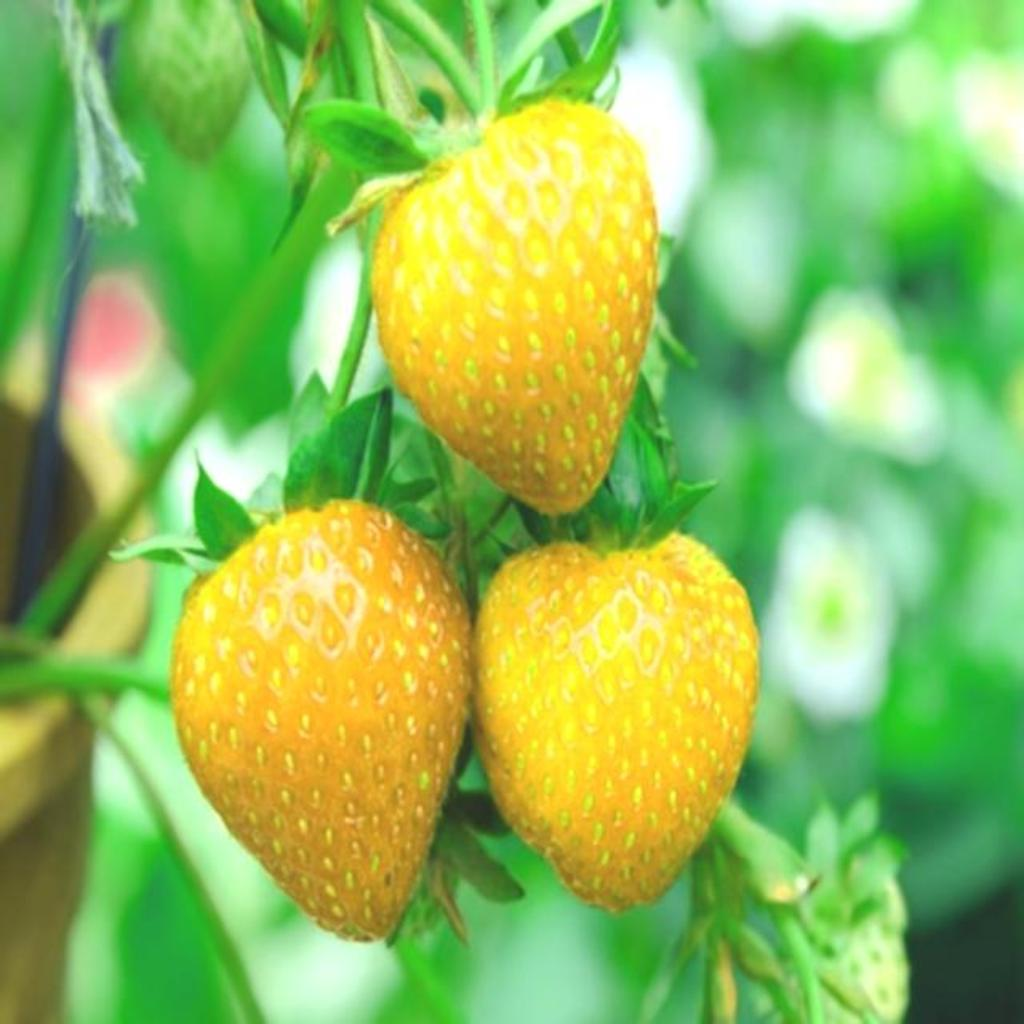strawberry: (172, 500, 470, 941), (372, 100, 658, 514), (476, 534, 758, 911)
